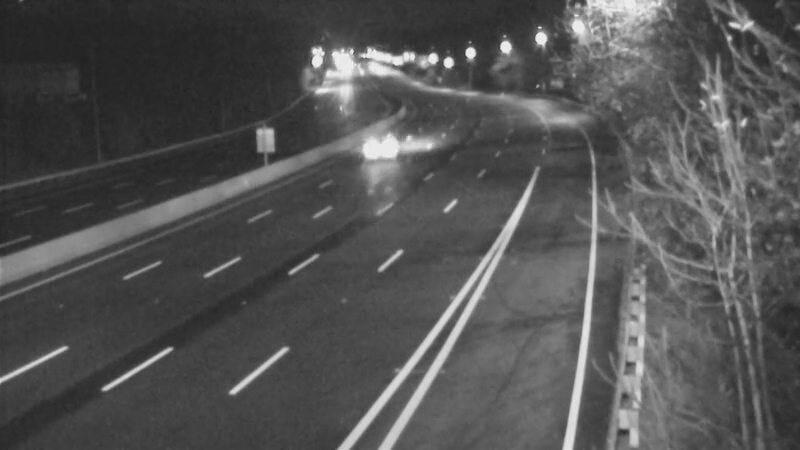vehicle: (351, 122, 401, 172)
